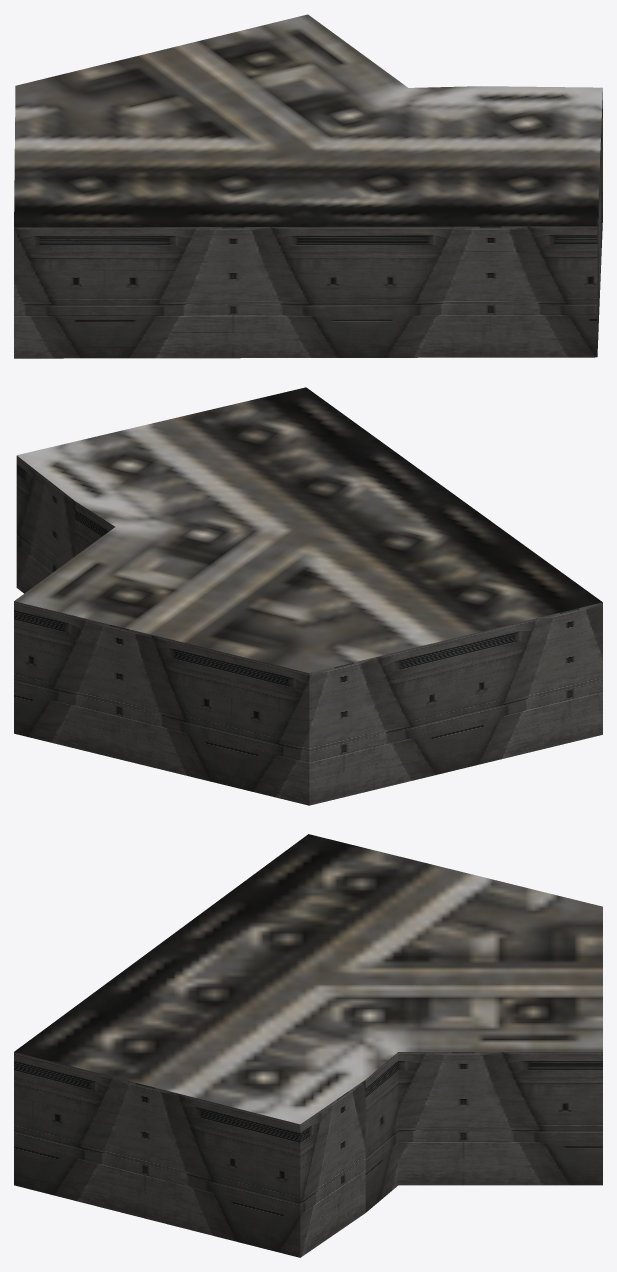
The model's file is fortress_hard_37.glb.
3 views of the same model, one above another, from view 1: azimuth 30°, elevation 25°; view 2: azimuth 150°, elevation 25°; view 3: azimuth 270°, elevation 25° (orthographic).
Visible parts, largest first — view 1: buildings/saxarba/fortress_hard/fortress_hard_37; view 2: buildings/saxarba/fortress_hard/fortress_hard_37; view 3: buildings/saxarba/fortress_hard/fortress_hard_37.
Boxes of the visible parts, left/top/right/bottom form: buildings/saxarba/fortress_hard/fortress_hard_37: left=14, top=14, right=602, bottom=358; buildings/saxarba/fortress_hard/fortress_hard_37: left=14, top=387, right=602, bottom=805; buildings/saxarba/fortress_hard/fortress_hard_37: left=14, top=834, right=602, bottom=1257.
Size of the model in its own units: 84 by 18 by 72.
